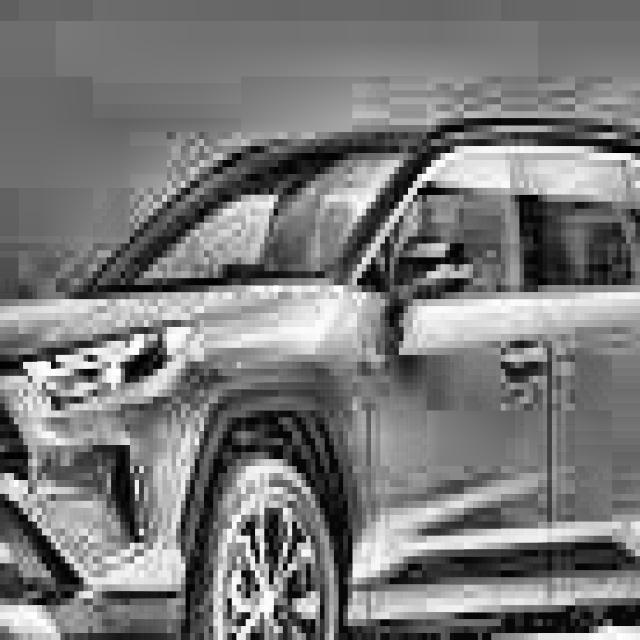light_vehicle: (0, 118, 640, 640)
